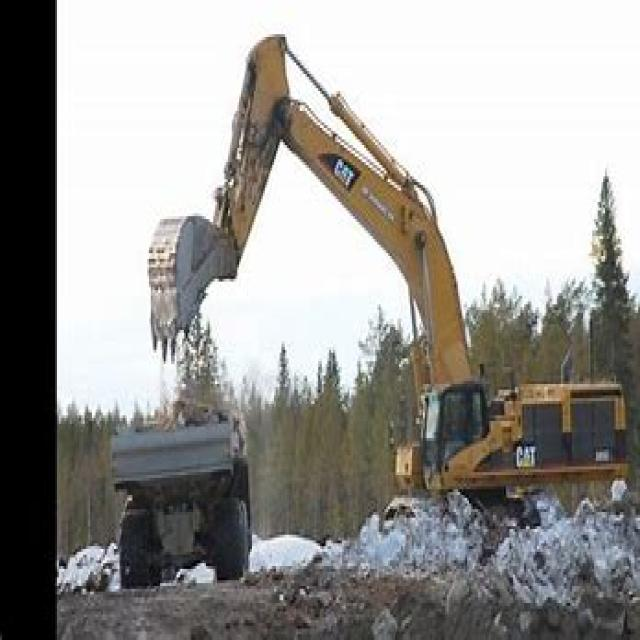dump_truck: (105, 384, 265, 631)
excavator: (138, 17, 638, 555)
